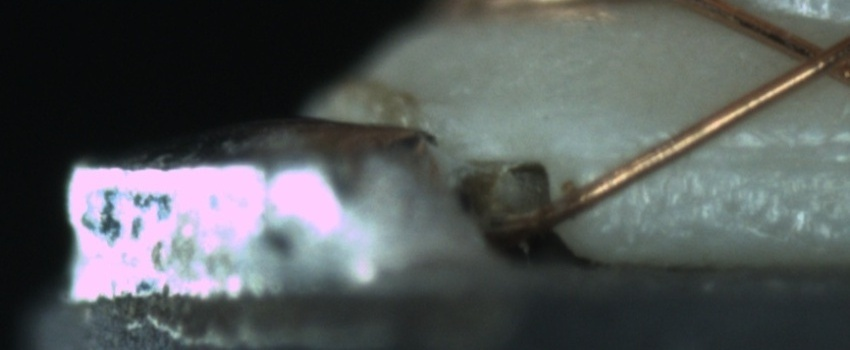CL: (774, 23, 847, 90)
DL: (618, 116, 846, 189)
